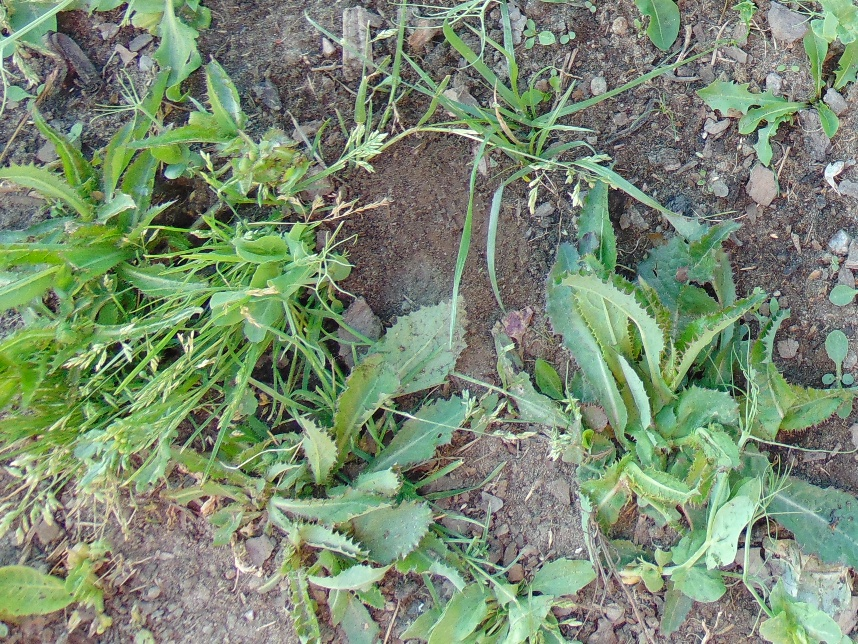crop: (623, 480, 851, 644), (1, 1, 205, 120), (202, 232, 357, 338), (60, 533, 120, 620), (427, 1, 500, 58), (793, 1, 858, 46), (739, 402, 773, 455), (729, 1, 762, 26), (1, 27, 12, 83)
weed: (549, 183, 840, 500), (214, 414, 487, 642), (292, 302, 469, 598), (1, 334, 261, 491), (6, 121, 159, 342), (451, 36, 609, 200), (144, 228, 240, 497), (415, 543, 597, 640), (135, 58, 287, 155), (722, 39, 853, 146), (246, 125, 394, 215), (337, 5, 419, 165), (495, 327, 580, 463), (1, 555, 72, 617), (634, 1, 681, 61), (650, 598, 692, 638)
